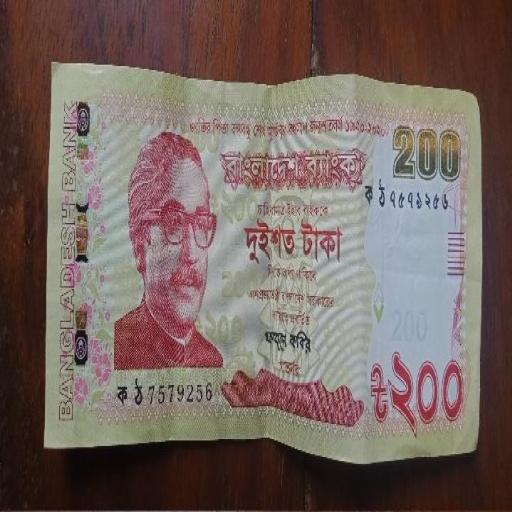200taka: (44, 63, 481, 462)
